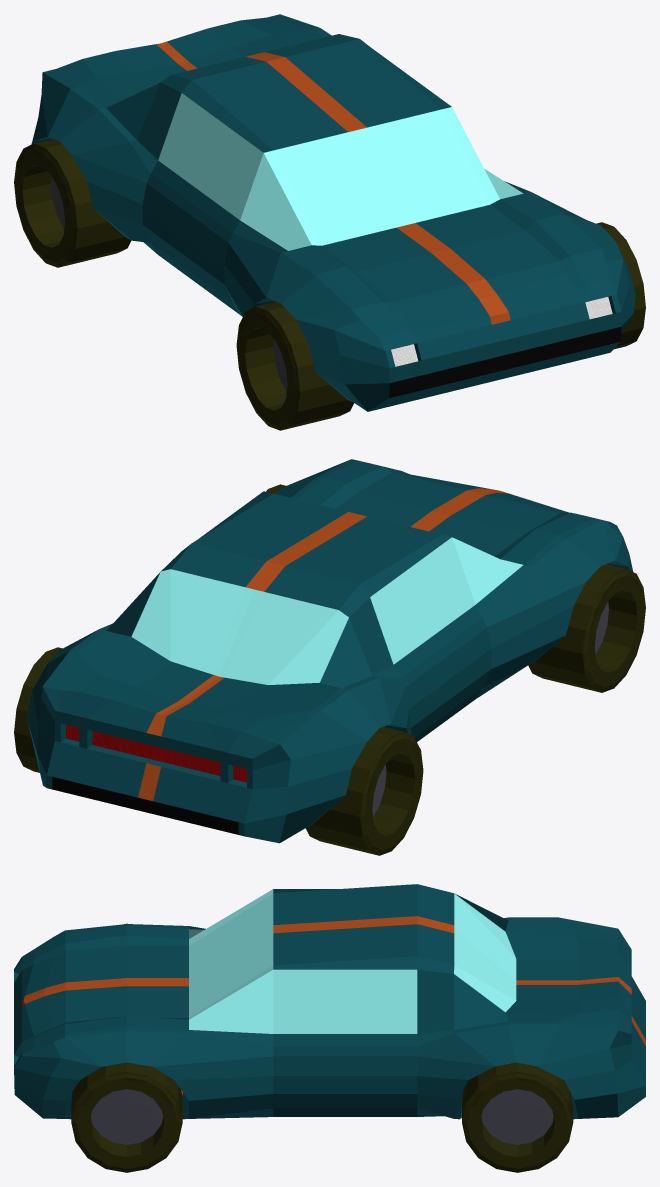
File: car01.fbx
3 renders of one model, top to bottom at view 1: azimuth 30°, elevation 25°; view 2: azimuth 150°, elevation 25°; view 3: azimuth 270°, elevation 25°, orthographic. The views are drawn at different scales.
Visible parts, largest first — view 1: car01; view 2: car01; view 3: car01.
Part boxes in pixels (left/top/right/bottom): car01: left=14, top=14, right=645, bottom=430; car01: left=14, top=459, right=645, bottom=855; car01: left=14, top=884, right=645, bottom=1172.
Size of the model in its own units: 128 by 71.04 by 228.
